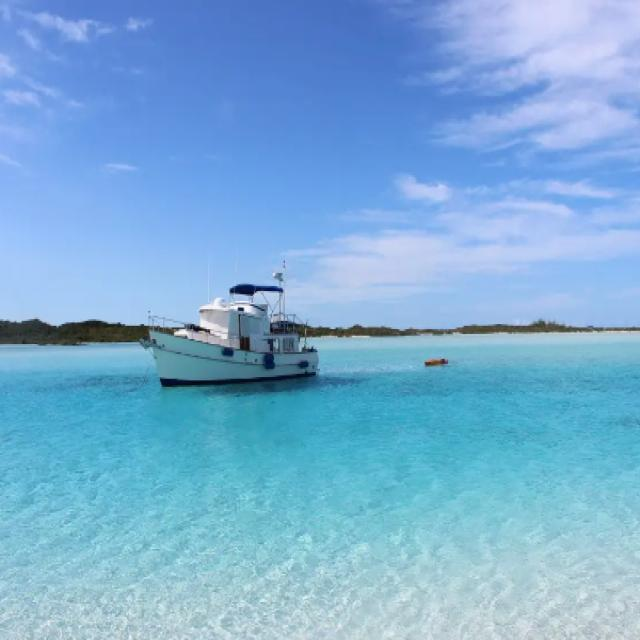houseboat: (145, 260, 316, 382)
